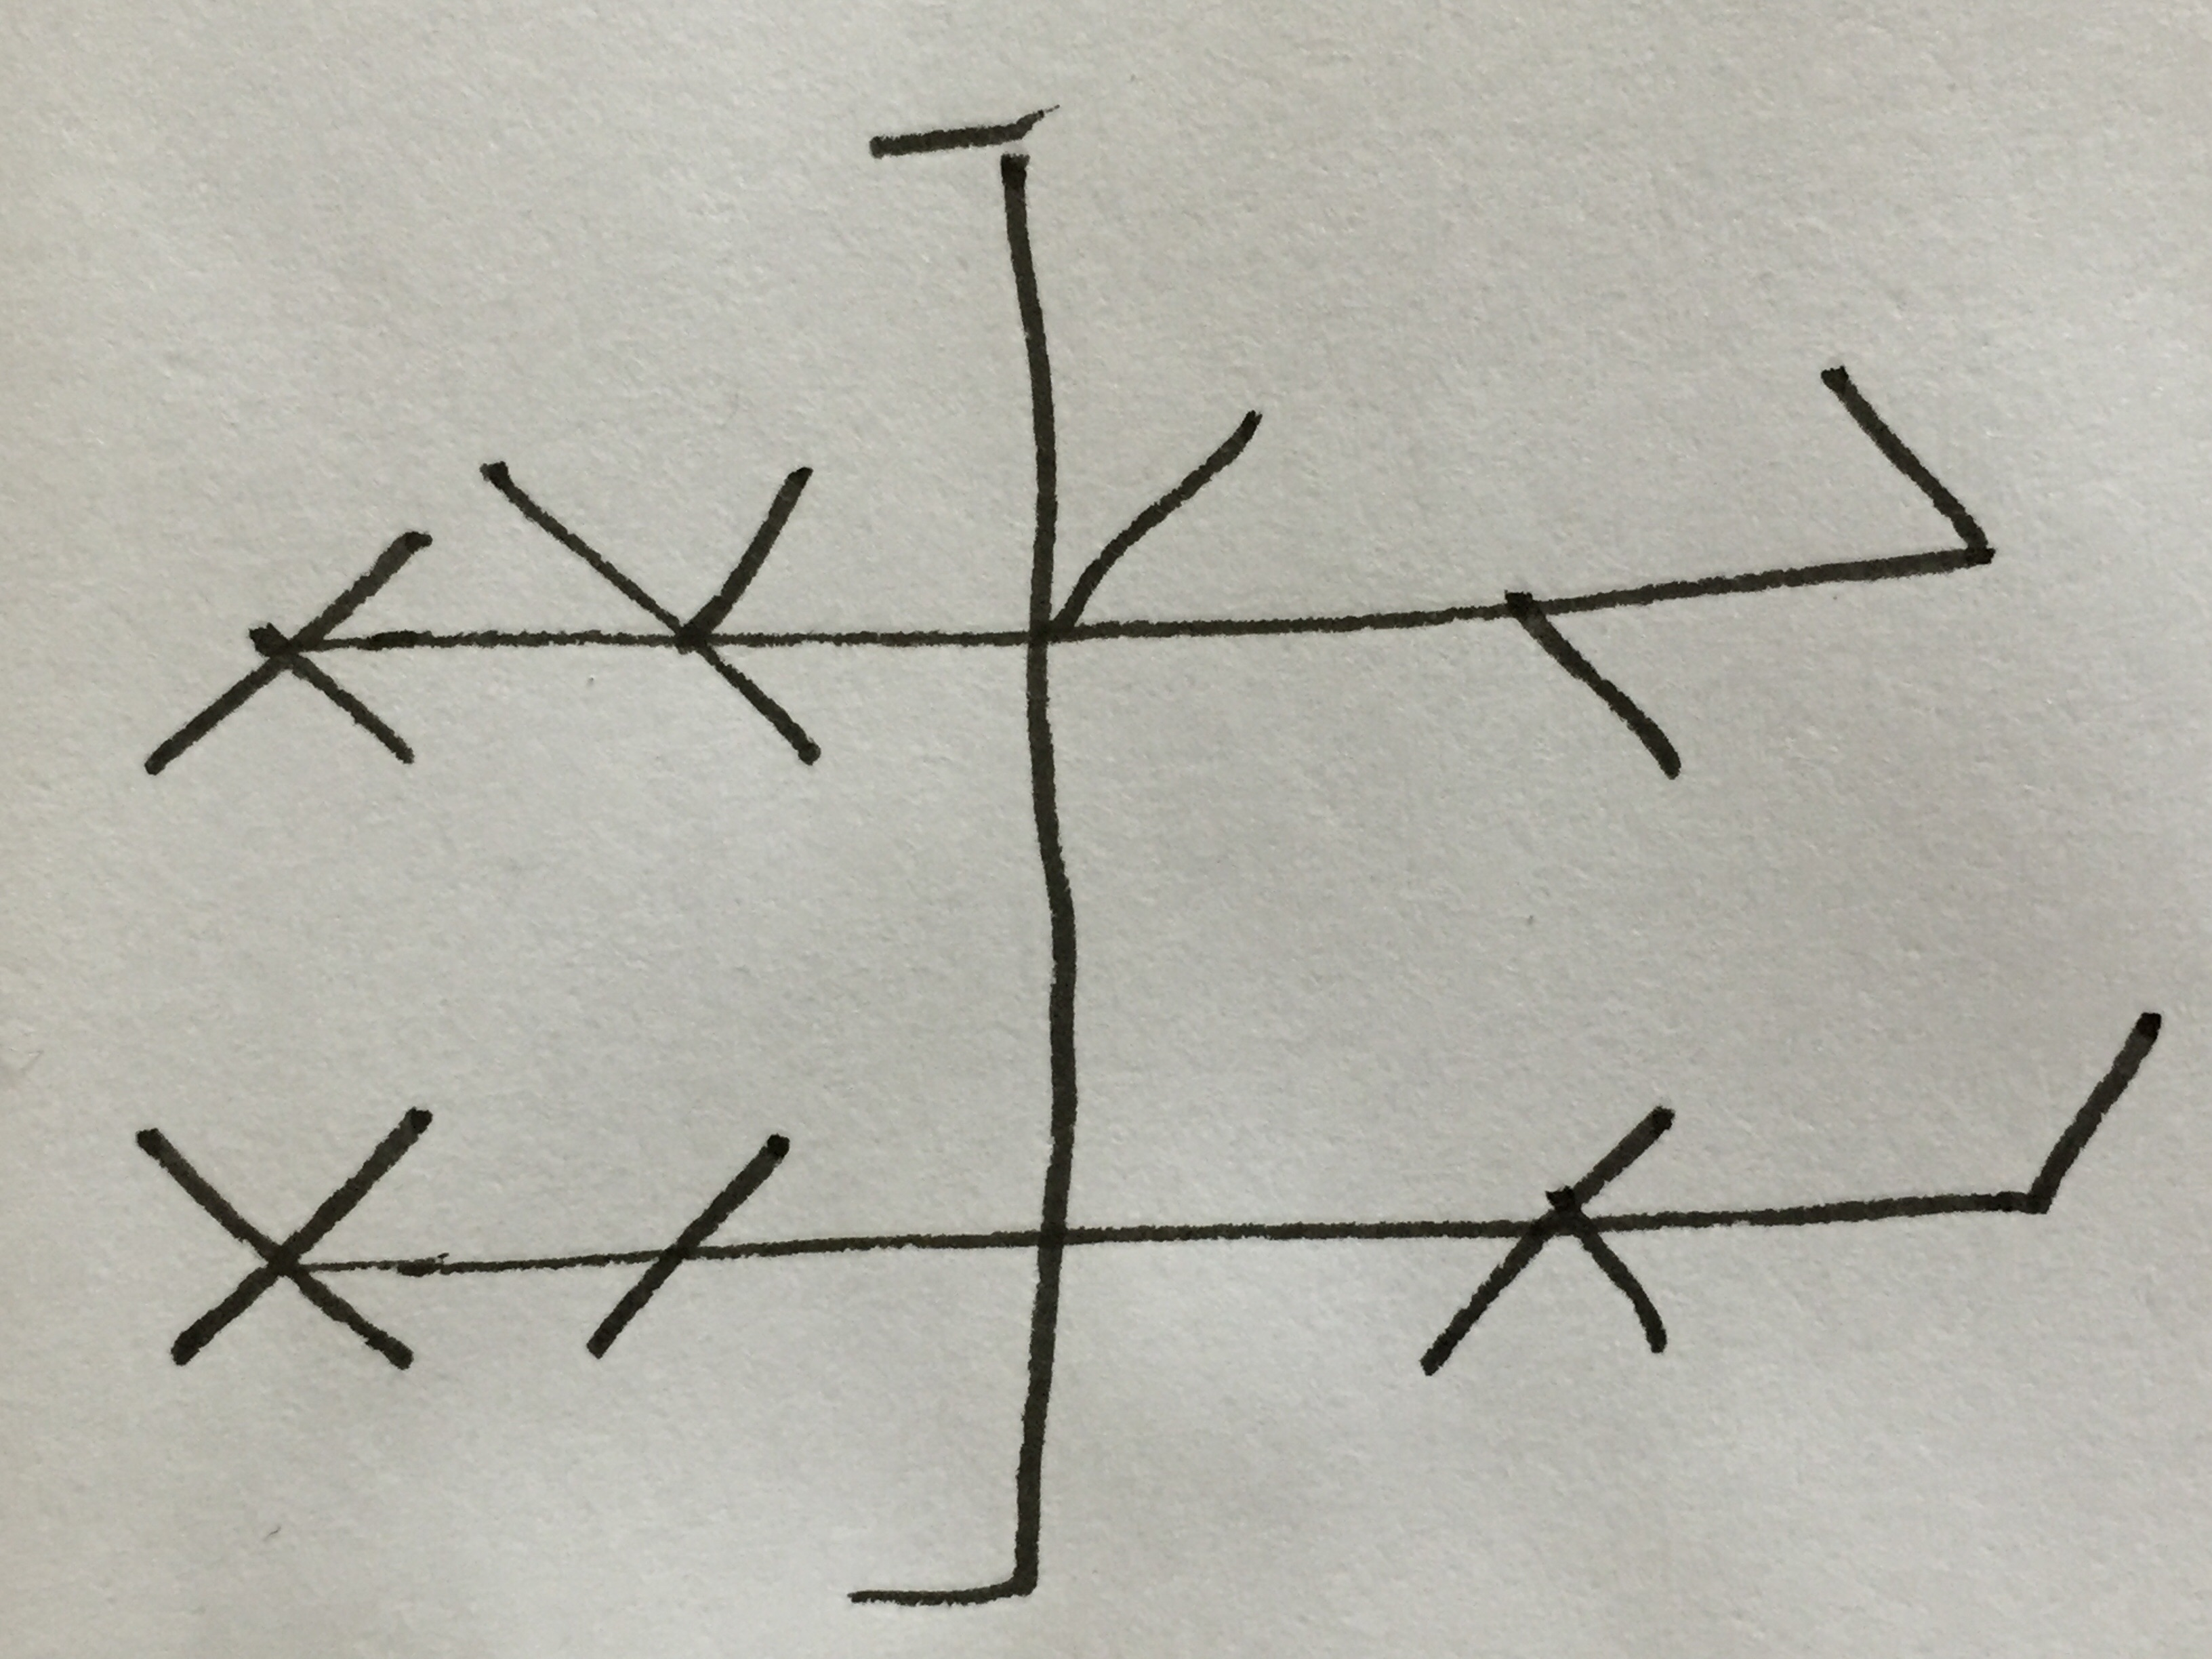Bar: (139, 366, 1996, 777), (134, 1009, 2161, 1378)
Barcode: (136, 105, 2163, 1607)
End: (867, 108, 1061, 605)
Start: (848, 1253, 1062, 1607)
